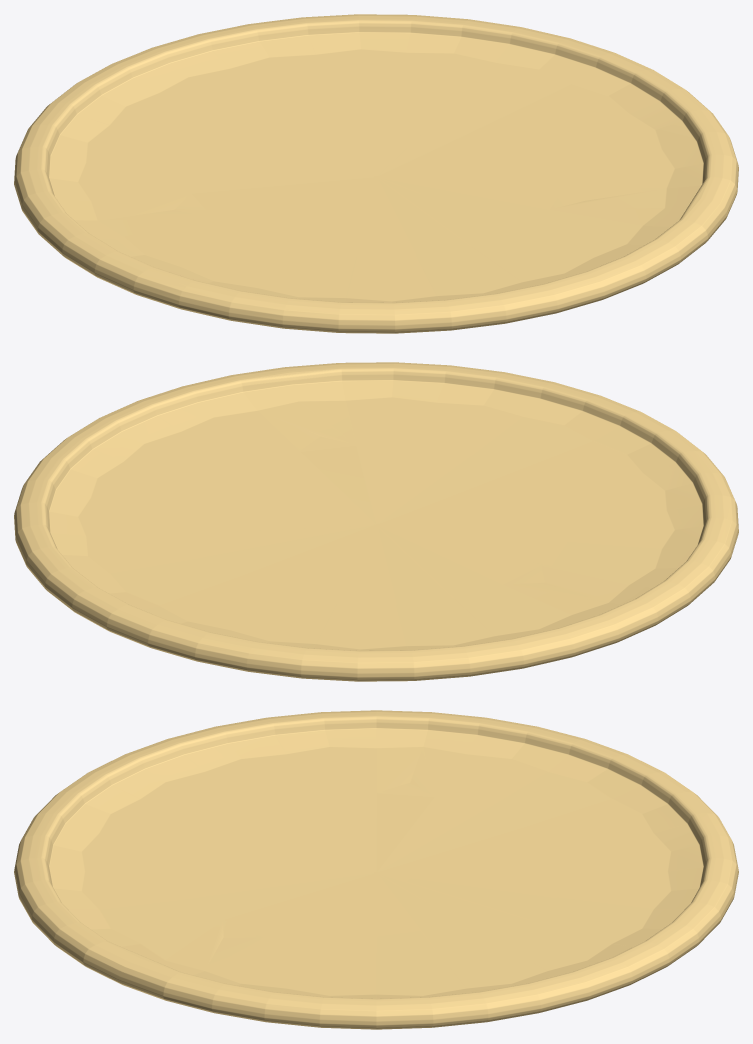
Rendered from Dough.glb.
3 renders of one model, top to bottom at view 1: azimuth 30°, elevation 25°; view 2: azimuth 150°, elevation 25°; view 3: azimuth 270°, elevation 25°, orthographic.
Visible parts, largest first — view 1: dough; view 2: dough; view 3: dough.
Part boxes in pixels (x1,y1,x2,y2): dough: [14, 14, 738, 333]; dough: [14, 362, 738, 681]; dough: [14, 710, 738, 1029].
Size of the model in its own units: 0.4815 by 0.0178 by 0.4815.
